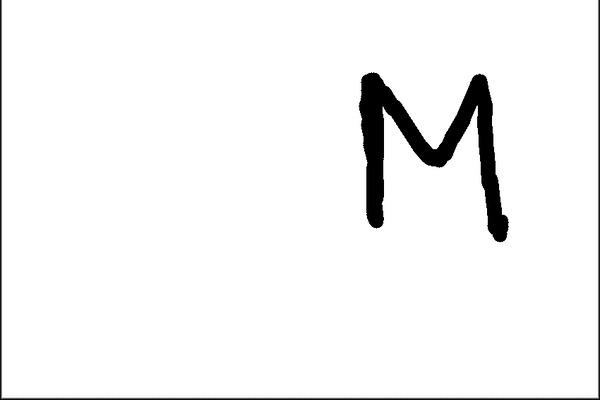M: (348, 65, 514, 243)
